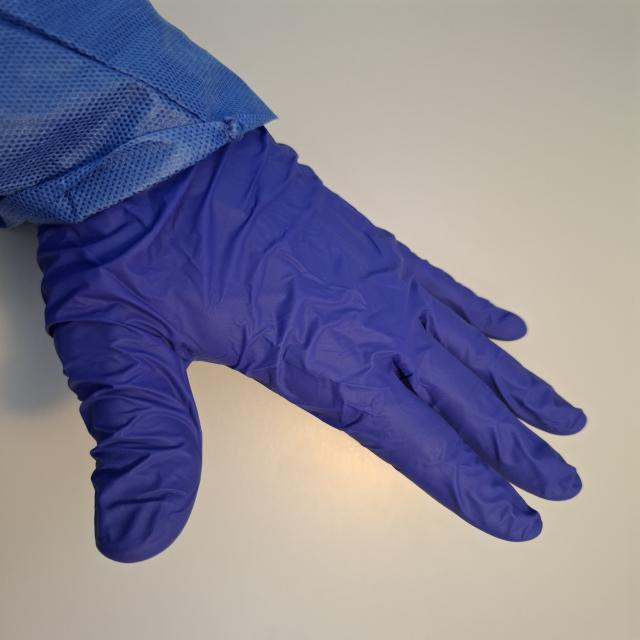glove_on: (29, 113, 591, 566)
